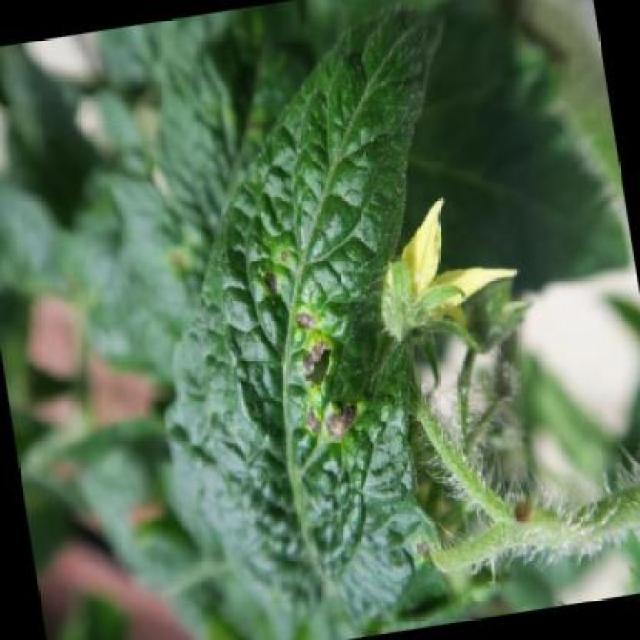Tomato leaf bacterial spot: (154, 210, 437, 523)
